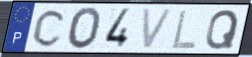4: (102, 6, 134, 51)
C: (31, 8, 68, 48)
L: (170, 8, 199, 50)
O: (66, 6, 103, 51)
Q: (204, 8, 241, 51)
V: (140, 7, 176, 51)
